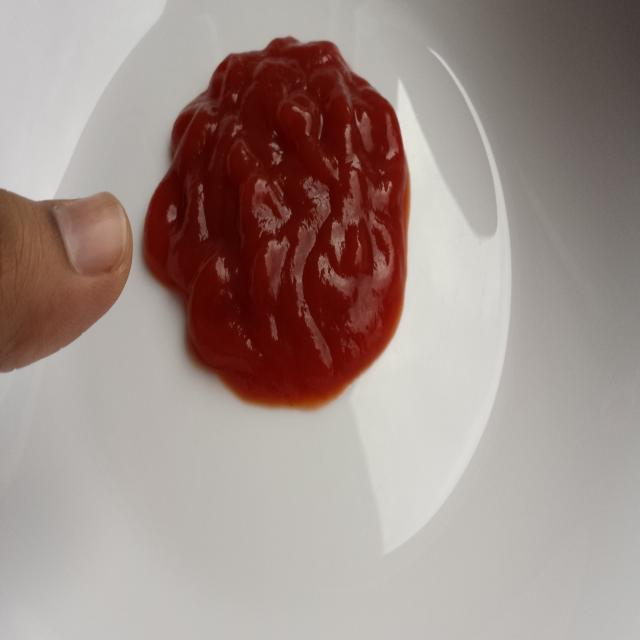Sauce: (164, 19, 426, 424)
